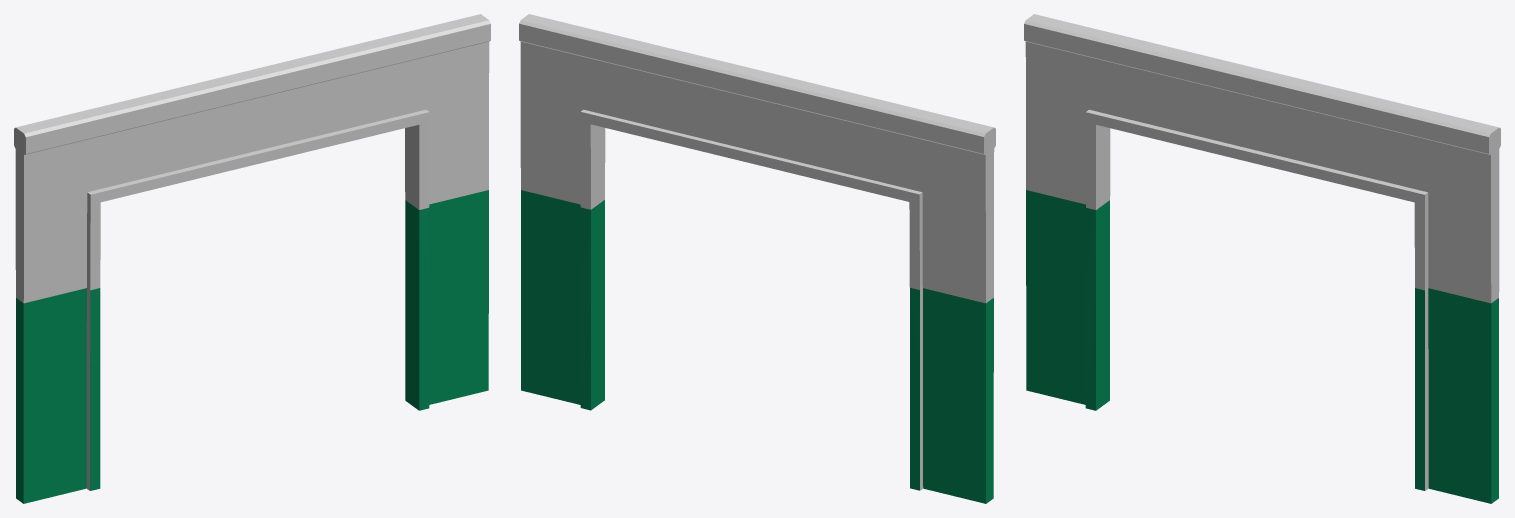
File: wall_19.fbx
3 renders of one model, left to right at view 1: azimuth 30°, elevation 25°; view 2: azimuth 150°, elevation 25°; view 3: azimuth 330°, elevation 25°, orthographic.
Parts seen in each view (by area): view 1: WALL_4.003; view 2: WALL_4.003; view 3: WALL_4.003.
Part boxes in pixels (x1,y1,x2,y2): WALL_4.003: [14, 14, 490, 503]; WALL_4.003: [519, 14, 995, 503]; WALL_4.003: [1024, 14, 1500, 503].
Bounding box in the file's own units: 6.34 × 4.83 × 0.3452.
